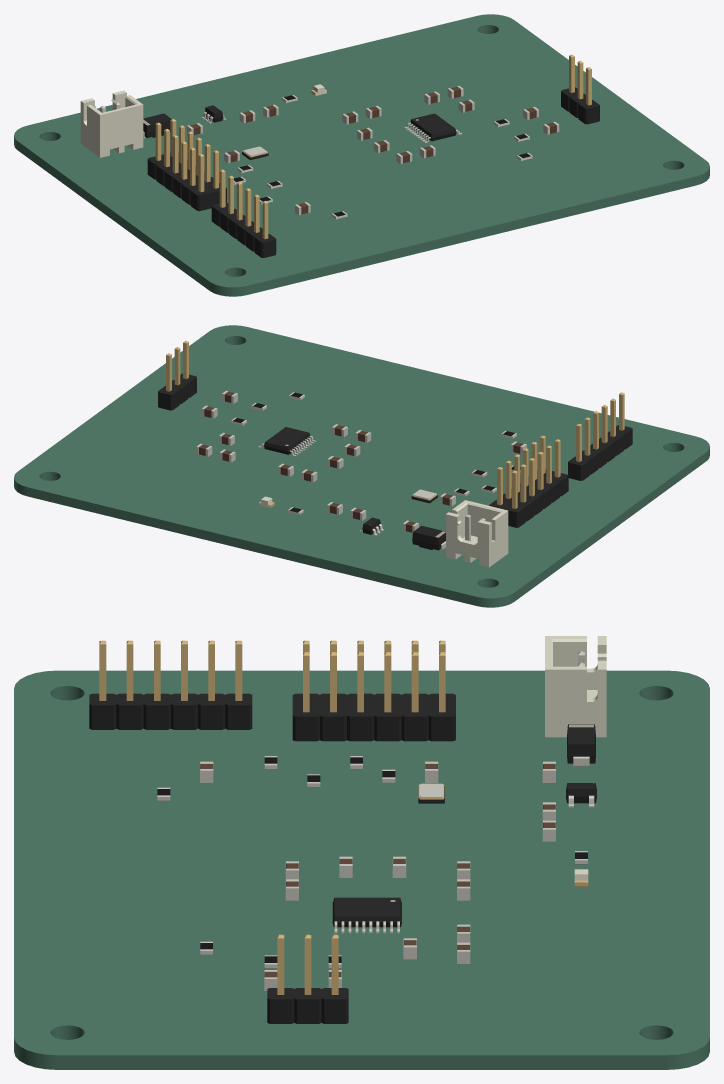
The model's file is konaet-h01.glb.
3 renders of one model, top to bottom at view 1: azimuth 30°, elevation 25°; view 2: azimuth 150°, elevation 25°; view 3: azimuth 270°, elevation 25°, orthographic. The views are drawn at different scales.
Parts seen in each view (by area): view 1: =>[0:1:1:24], =>[0:1:1:11], =>[0:1:1:15], =>[0:1:1:13], =>[0:1:1:7], =>[0:1:1:3], =>[0:1:1:19]; view 2: =>[0:1:1:24], =>[0:1:1:11], =>[0:1:1:15], =>[0:1:1:13], =>[0:1:1:7], =>[0:1:1:3], =>[0:1:1:19]; view 3: =>[0:1:1:24], =>[0:1:1:11], =>[0:1:1:13], =>[0:1:1:15], =>[0:1:1:7], =>[0:1:1:3], =>[0:1:1:19], =>[0:1:1:21].
Boxes of the visible parts, <box> form: =>[0:1:1:24]: <box>14,14,709,296</box>; =>[0:1:1:11]: <box>147,119,226,211</box>; =>[0:1:1:15]: <box>80,90,143,157</box>; =>[0:1:1:13]: <box>211,169,276,257</box>; =>[0:1:1:7]: <box>561,54,599,124</box>; =>[0:1:1:3]: <box>404,113,462,143</box>; =>[0:1:1:19]: <box>143,113,171,138</box>; =>[0:1:1:24]: <box>14,325,709,607</box>; =>[0:1:1:11]: <box>489,435,568,527</box>; =>[0:1:1:15]: <box>446,500,508,567</box>; =>[0:1:1:13]: <box>568,392,632,480</box>; =>[0:1:1:7]: <box>158,340,196,410</box>; =>[0:1:1:3]: <box>258,427,316,456</box>; =>[0:1:1:19]: <box>412,525,445,550</box>; =>[0:1:1:24]: <box>14,670,709,1069</box>; =>[0:1:1:11]: <box>292,640,455,741</box>; =>[0:1:1:13]: <box>89,640,252,729</box>; =>[0:1:1:15]: <box>545,636,606,737</box>; =>[0:1:1:7]: <box>267,934,348,1023</box>; =>[0:1:1:3]: <box>332,897,401,933</box>; =>[0:1:1:19]: <box>567,724,595,766</box>; =>[0:1:1:21]: <box>566,783,596,807</box>.
Size of the model in its own units: 0.085 by 0.0119 by 0.065.
